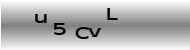5: (51, 21, 67, 37)
C: (74, 26, 90, 40)
L: (104, 7, 119, 21)
u: (34, 12, 48, 25)
v: (88, 26, 102, 38)
